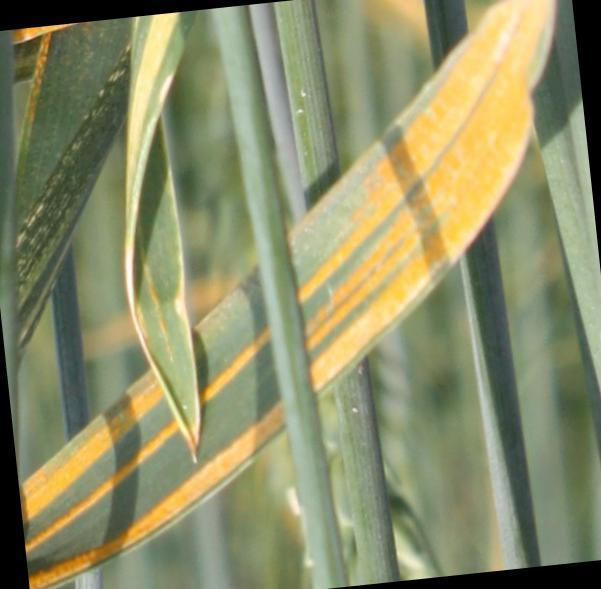Wheat: (296, 49, 525, 377), (22, 387, 191, 579)
